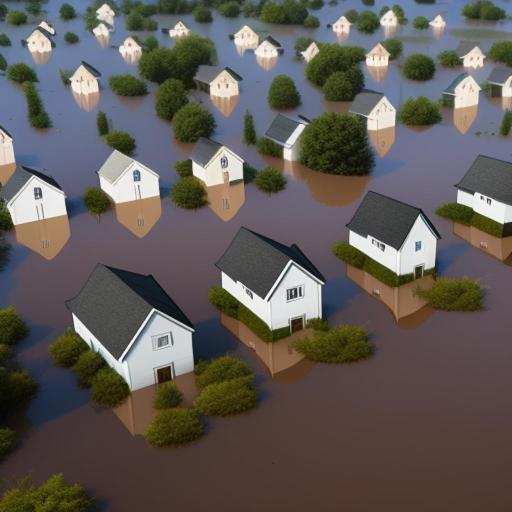flood: (0, 186, 512, 512), (0, 96, 512, 329), (0, 10, 173, 220), (111, 0, 470, 87), (188, 16, 323, 169), (361, 40, 496, 109), (112, 81, 194, 189), (426, 0, 512, 55), (40, 0, 96, 47), (394, 22, 438, 54), (0, 16, 40, 46), (346, 26, 386, 48), (322, 98, 352, 113), (2, 0, 24, 8)
house: (62, 261, 202, 413), (209, 219, 334, 349), (349, 183, 440, 284), (1, 165, 75, 259), (455, 152, 512, 237), (94, 152, 161, 218), (189, 137, 247, 194), (262, 112, 310, 164), (348, 90, 398, 134), (194, 63, 244, 103), (441, 70, 483, 108), (68, 60, 100, 104), (365, 38, 393, 78), (0, 124, 22, 166), (456, 43, 484, 71), (255, 36, 287, 60), (493, 67, 512, 106), (24, 28, 54, 52), (121, 34, 147, 61), (330, 13, 352, 42), (168, 19, 192, 41), (429, 14, 448, 38)
